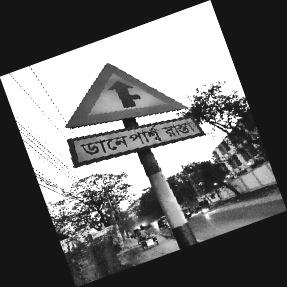Side-road-right: (64, 63, 199, 172)
